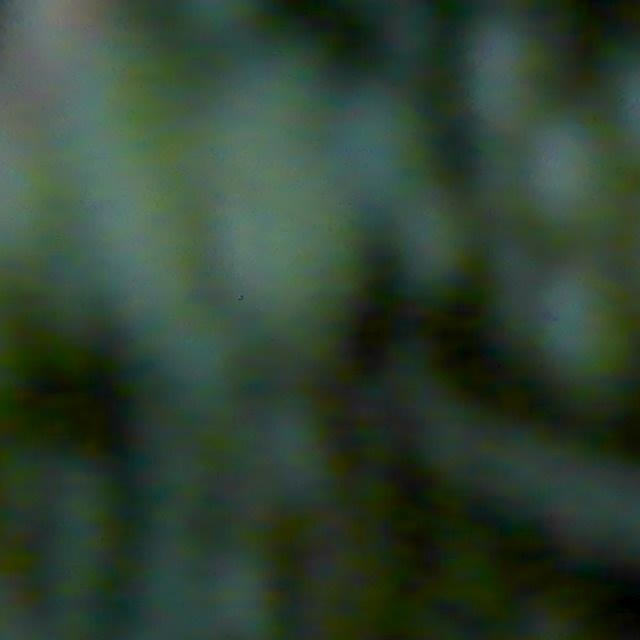SeaGrape: (516, 264, 640, 399), (506, 115, 611, 229), (460, 13, 552, 107)
